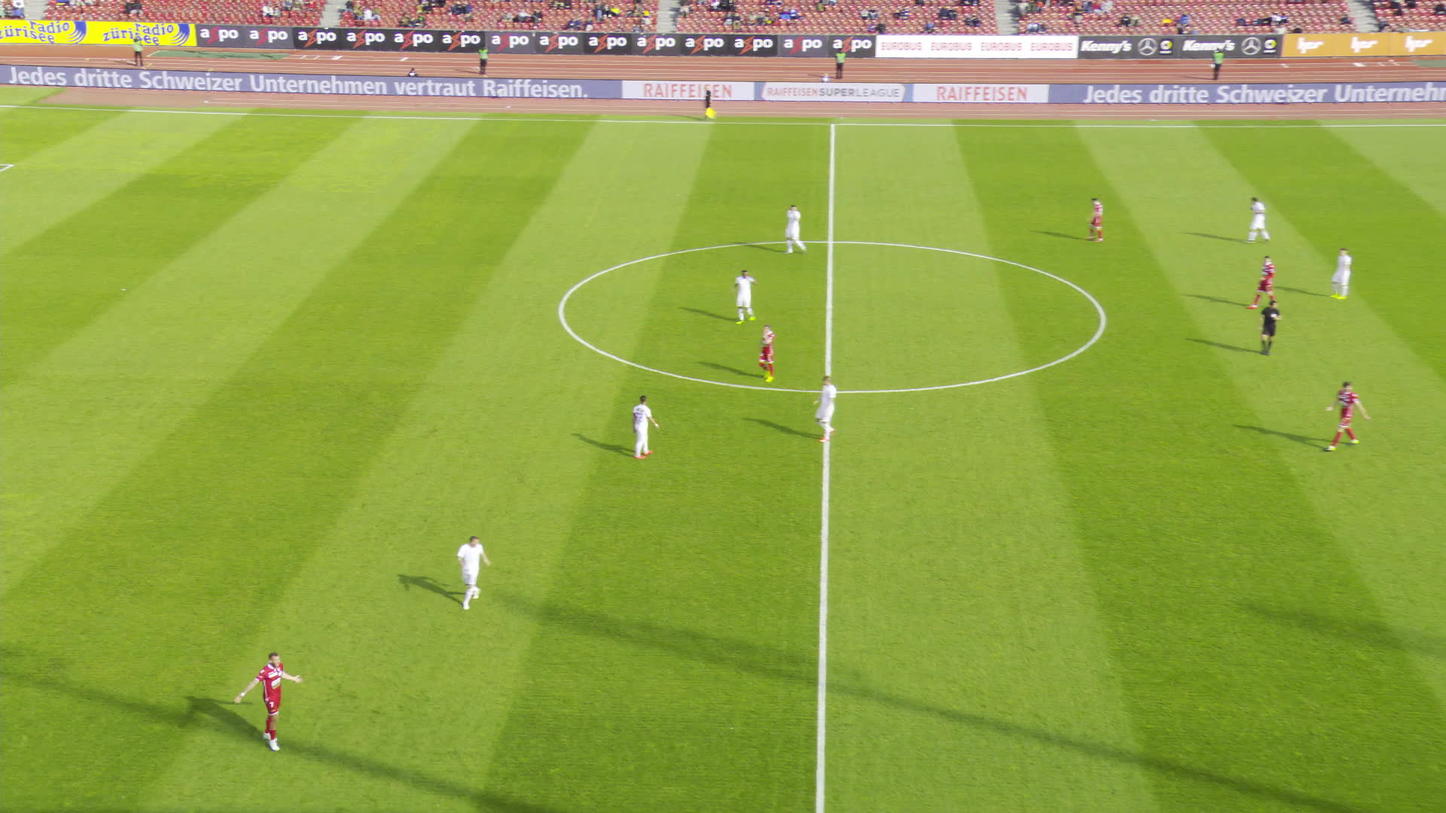player: (235, 647, 307, 749), (1331, 377, 1375, 453), (454, 528, 492, 611), (807, 373, 849, 444), (728, 266, 762, 326), (629, 391, 657, 463), (1249, 251, 1282, 312), (1326, 245, 1359, 303), (779, 202, 811, 258), (753, 321, 779, 384), (1249, 194, 1274, 246), (1084, 194, 1110, 243)
referee: (1256, 295, 1284, 360), (701, 84, 717, 121)
